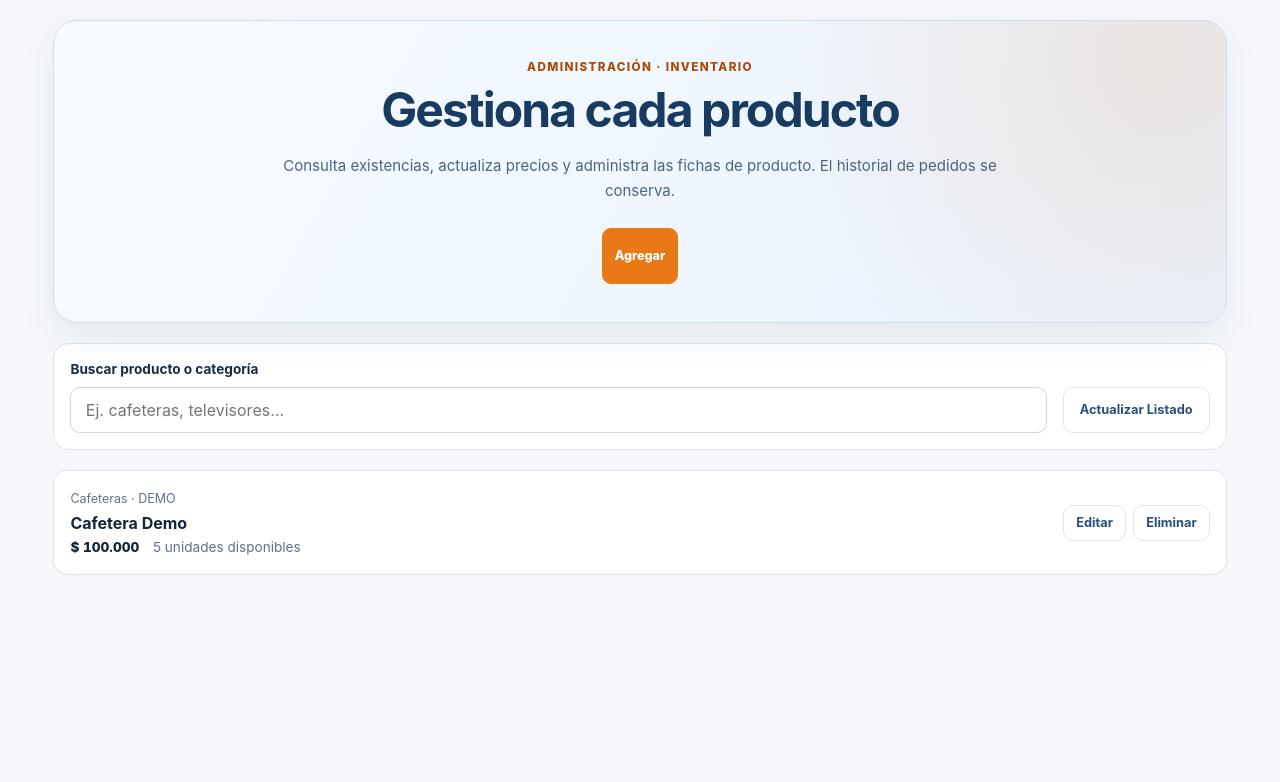
AdminInventory › sends updated demo product to admin-only API
This screenshot has width=1280, height=782.
Click the button "Editar": click(1095, 522) left=1063, top=504, right=1126, bottom=540
(page scrolled)
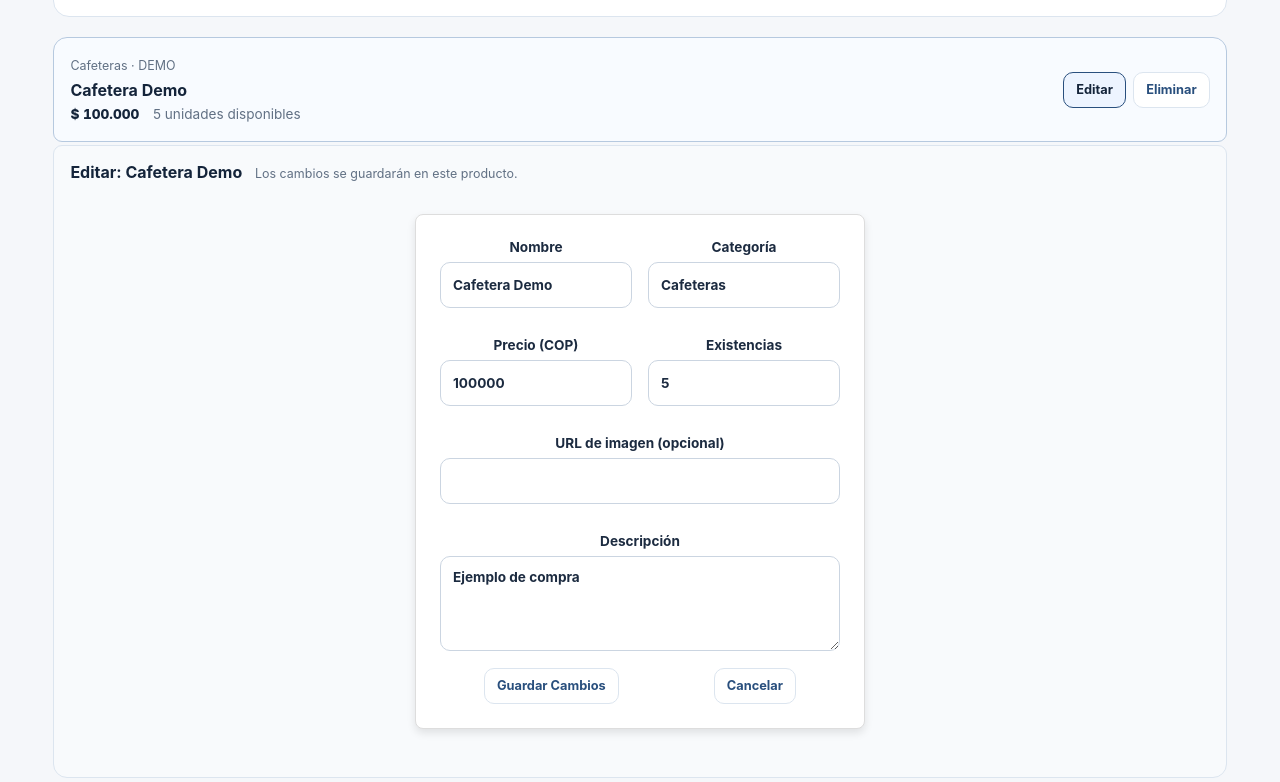
Replace the text in the number field labelled "Precio (COP)" with "125000.5": (536, 383) left=440, top=360, right=632, bottom=406
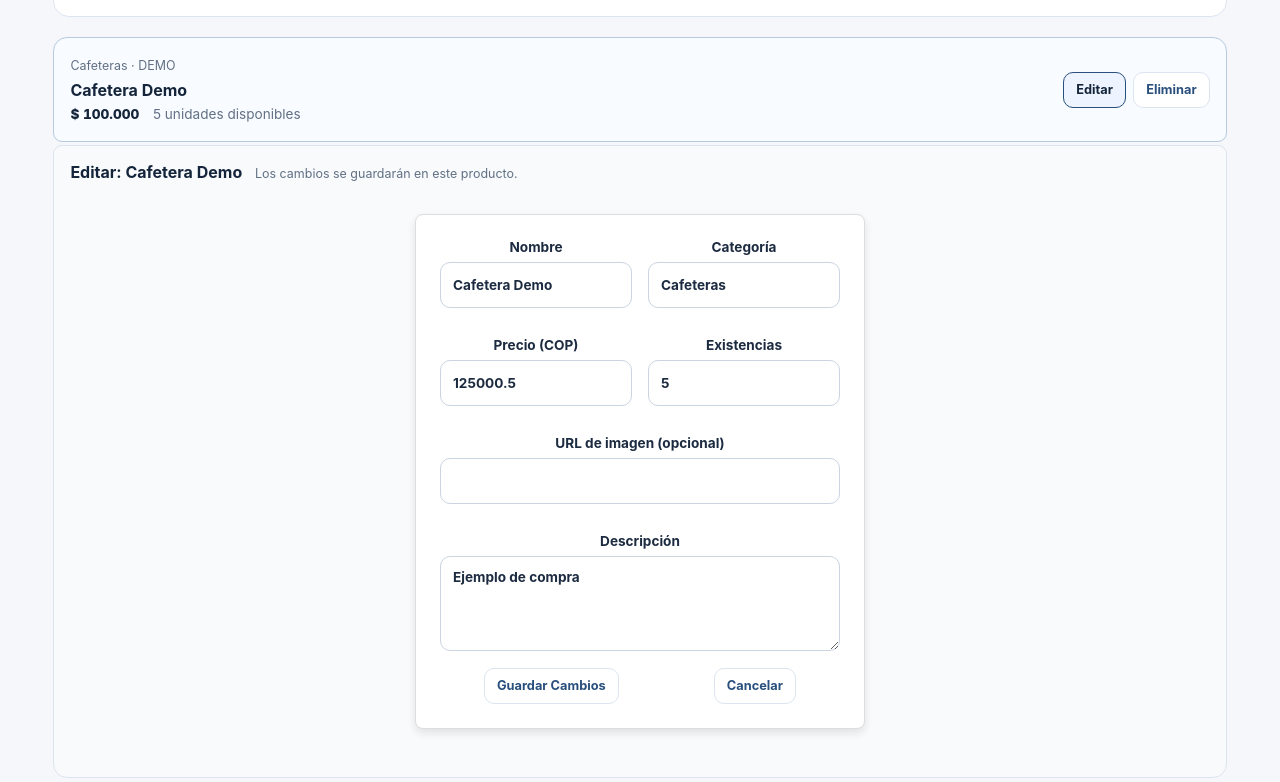
Replace the text in the number field labelled "Existencias" with "3": (744, 383) left=648, top=360, right=840, bottom=406
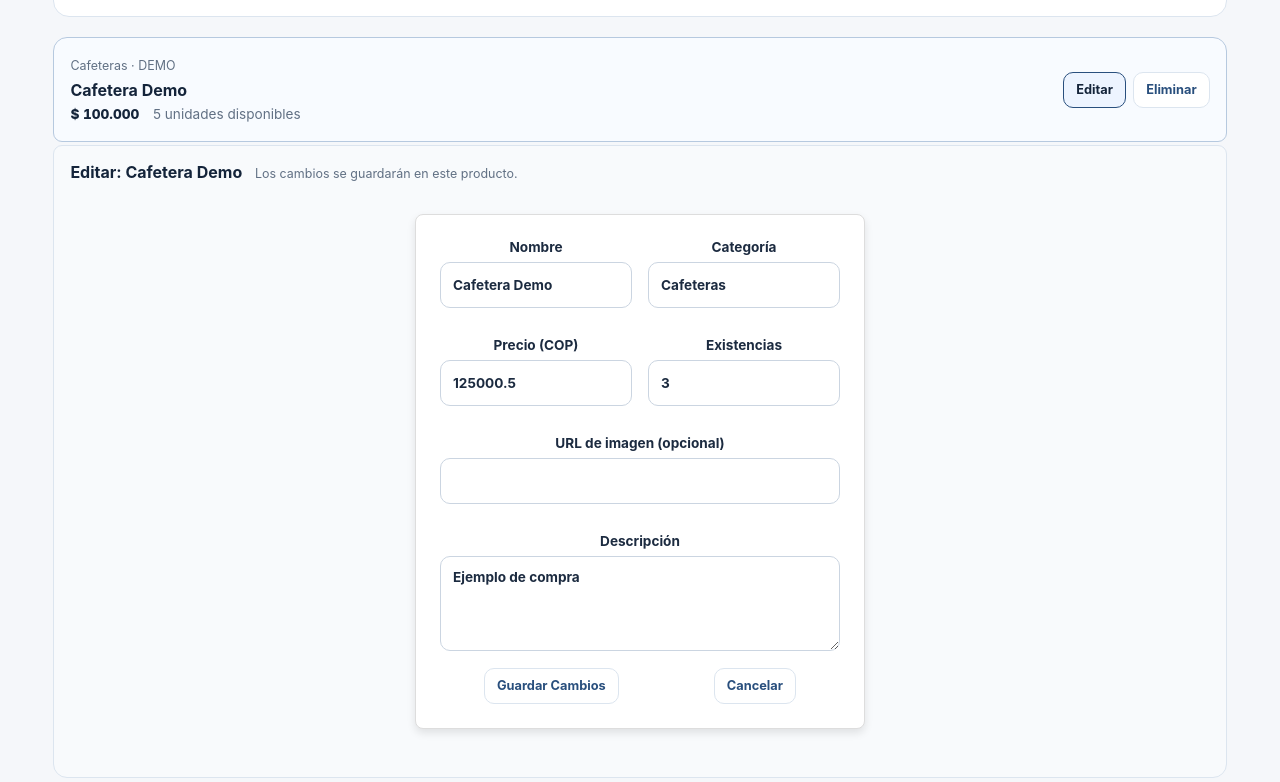
Click the button "Guardar Cambios": click(551, 686) left=484, top=668, right=619, bottom=704
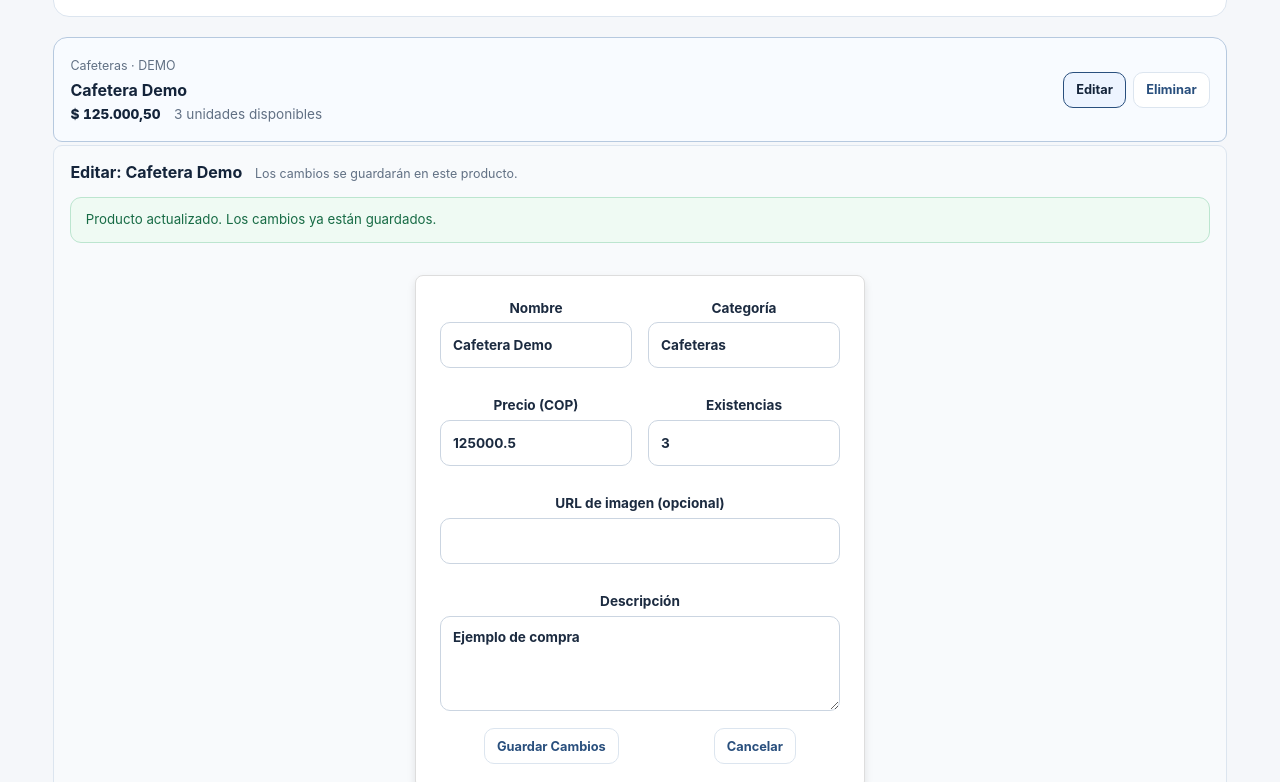
Now the message "Producto actualizado. Los cambios ya están guardados." is shown, box left=70, top=197, right=1210, bottom=242
